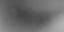RightEyeFatigue: (3, 3, 62, 32)
